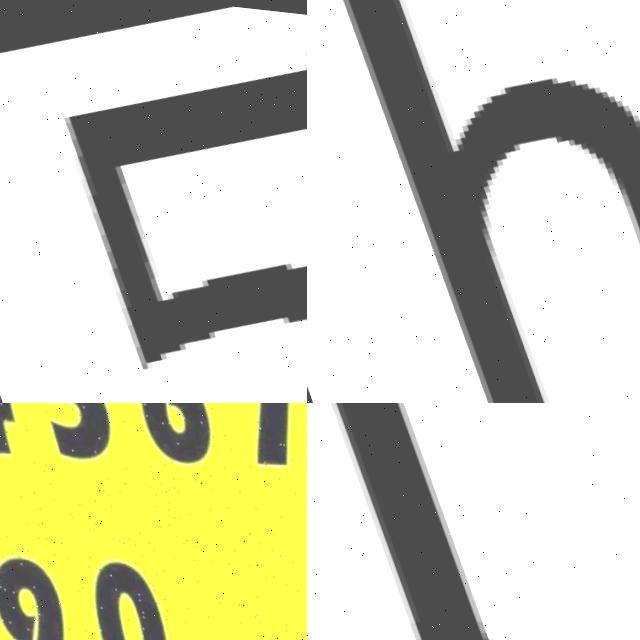0: (33, 511, 209, 640)
1: (307, 403, 587, 640)
5: (0, 0, 307, 403), (0, 403, 157, 498)
6: (70, 403, 256, 494)
7: (175, 403, 307, 497)
9: (0, 519, 110, 640)
H: (310, 0, 640, 403)
